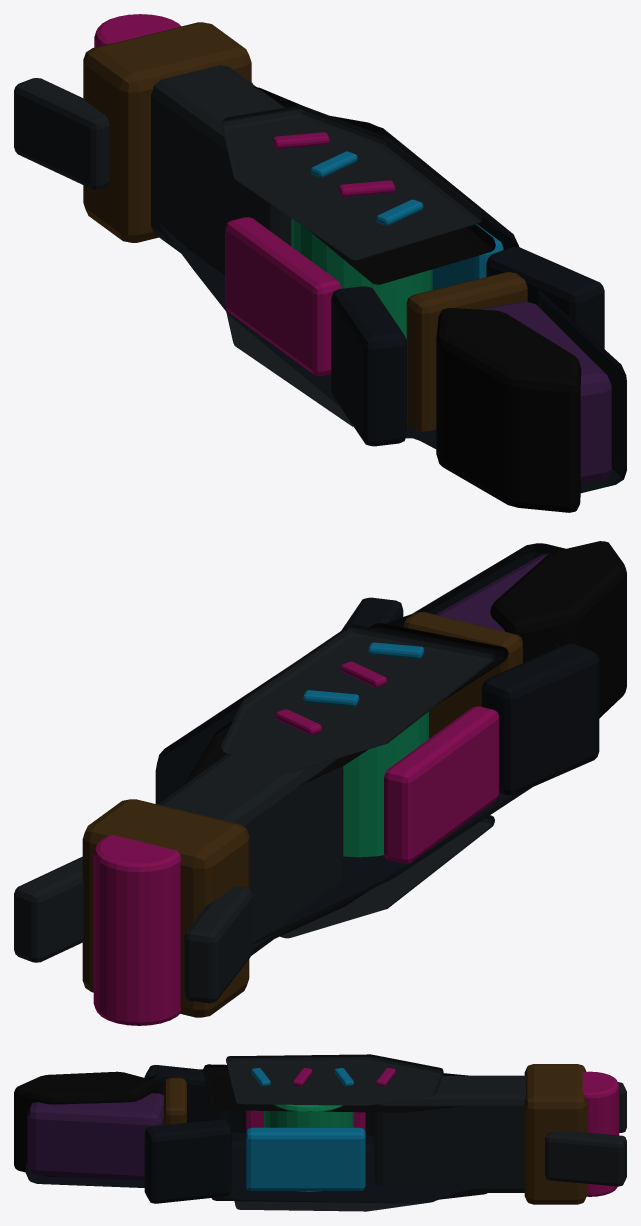
The model's file is Prismora_Pulsar_V2.fbx.
The picture shows the model from 3 angles, top to bottom: view 1: azimuth 30°, elevation 25°; view 2: azimuth 150°, elevation 25°; view 3: azimuth 270°, elevation 25°; orthographic projection. The views are drawn at different scales.
Parts seen in each view (by area): view 1: PulsarV2_Body, PulsarV2_Energy; view 2: PulsarV2_Body, PulsarV2_Energy; view 3: PulsarV2_Body, PulsarV2_Energy.
Boxes of the visible parts, left/top/right/bottom form: PulsarV2_Body: left=14, top=22, right=626, bottom=512; PulsarV2_Energy: left=94, top=14, right=503, bottom=375; PulsarV2_Body: left=14, top=541, right=626, bottom=1017; PulsarV2_Energy: left=93, top=642, right=499, bottom=1025; PulsarV2_Body: left=14, top=1054, right=626, bottom=1211; PulsarV2_Energy: left=246, top=1068, right=619, bottom=1196.
Bounding box in the file's own units: 1.68 × 1.26 × 5.89.
Materials: 3 (2 with a texture image).
